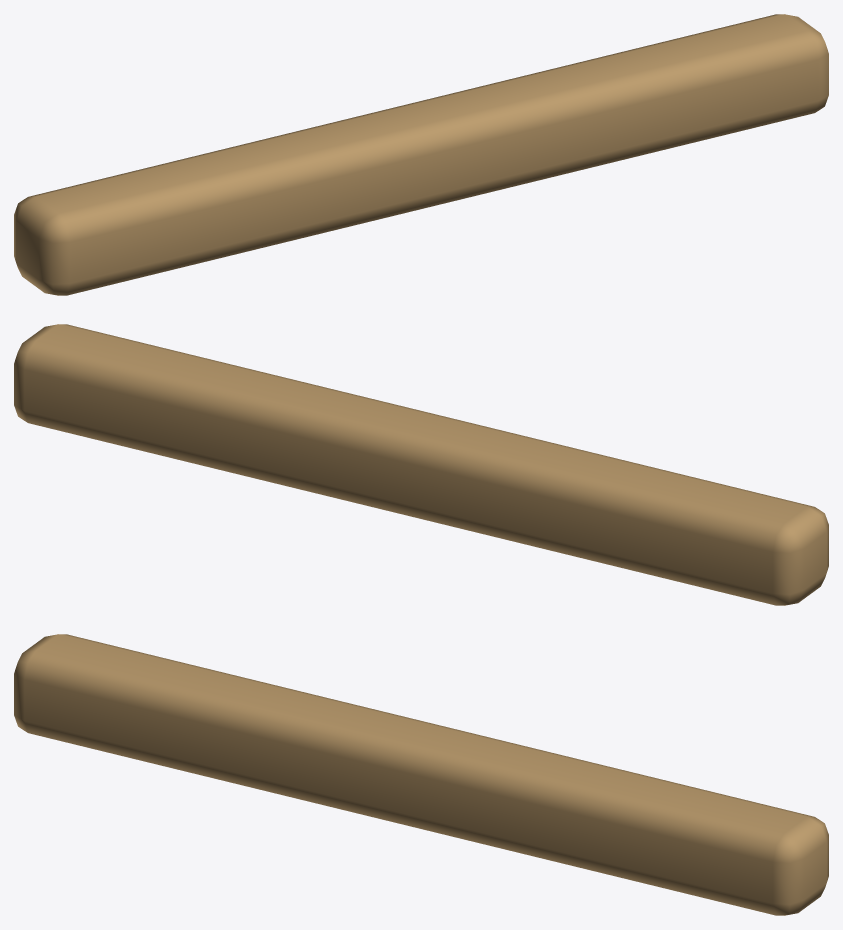
Rendered from bridge-rail.glb.
3 views of the same model, one above another, from view 1: azimuth 30°, elevation 25°; view 2: azimuth 150°, elevation 25°; view 3: azimuth 330°, elevation 25° (orthographic).
Visible parts, largest first — view 1: bridge-rail_wood_light; view 2: bridge-rail_wood_light; view 3: bridge-rail_wood_light.
Part boxes in pixels (x1,y1,x2,y2): bridge-rail_wood_light: (14,14,828,295); bridge-rail_wood_light: (14,324,828,605); bridge-rail_wood_light: (14,634,828,915).
Size of the model in its own units: 1 by 0.1 by 0.1.
